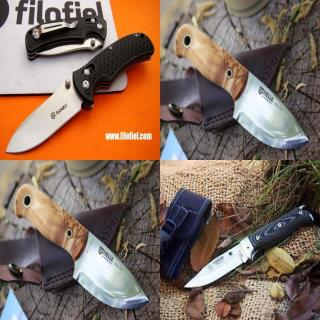knife: (229, 66, 313, 151), (69, 226, 153, 310), (3, 69, 85, 155), (181, 232, 259, 288)
